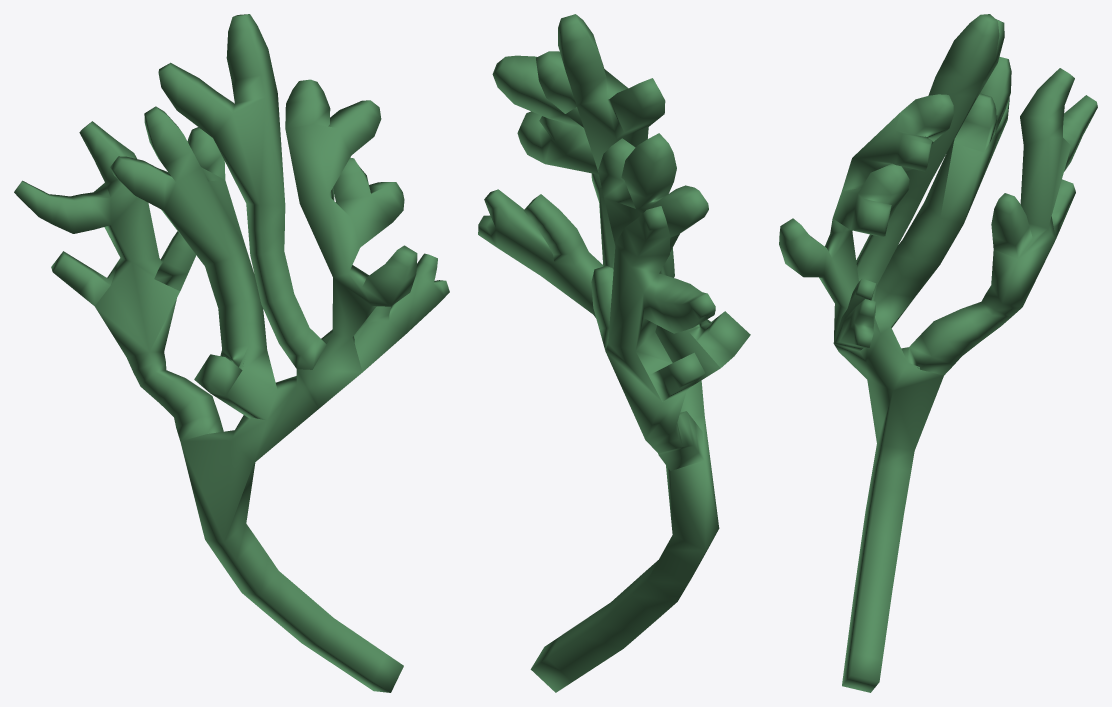
Rendered from EdgePlant.fbx.
3 renders of one model, left to right at view 1: azimuth 30°, elevation 25°; view 2: azimuth 150°, elevation 25°; view 3: azimuth 270°, elevation 25°, orthographic. The views are drawn at different scales.
Parts seen in each view (by area): view 1: EdgePlant; view 2: EdgePlant; view 3: EdgePlant.
Boxes of the visible parts, left/top/right/bottom form: EdgePlant: left=14, top=14, right=449, bottom=692; EdgePlant: left=478, top=14, right=750, bottom=692; EdgePlant: left=779, top=14, right=1097, bottom=692.
Size of the model in its own units: 418 by 815 by 366.
